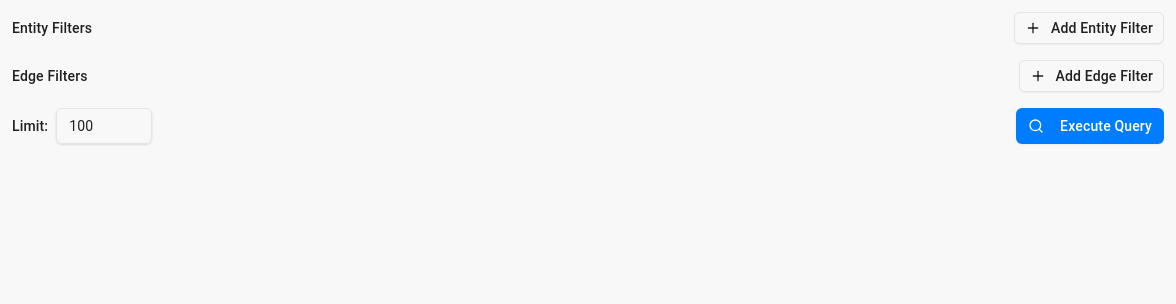
Scenario: QueryBuilder › adds entity filter
This screenshot has width=1176, height=304.
Click the button "Add Entity Filter".
click(1089, 28)  # box x1=1014 y1=12 x2=1164 y2=44
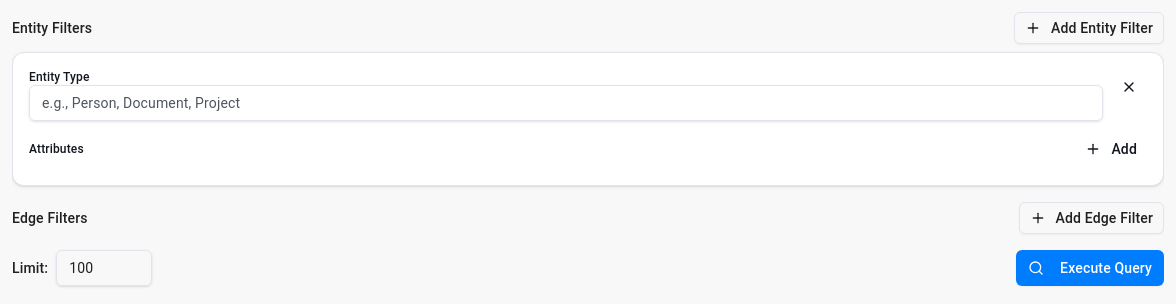
expect the field with placeholder "e.g., Person, Document, Project" is shown: met, box x1=29 y1=85 x2=1103 y2=121
